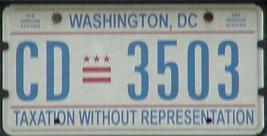placa de veiculo: (5, 4, 261, 133)
